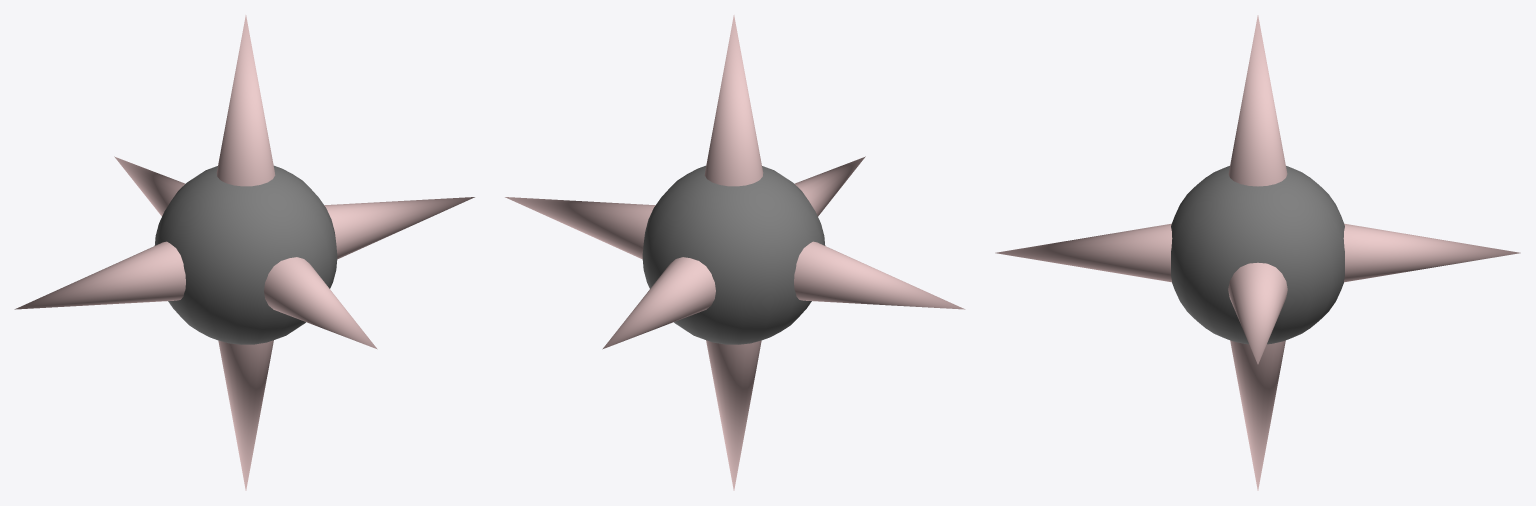
Rendered from Block_Togetoge.fbx.
3 views of the same model, side by side, from view 1: azimuth 30°, elevation 25°; view 2: azimuth 150°, elevation 25°; view 3: azimuth 270°, elevation 25° (orthographic).
Visible parts, largest first — view 1: pCone8; view 2: pCone8; view 3: pCone8.
Part boxes in pixels (x1,y1,x2,y2): pCone8: (14,15,474,490); pCone8: (505,15,965,490); pCone8: (995,15,1520,490).
Size of the model in its own units: 0.8694 by 0.86 by 0.86.
